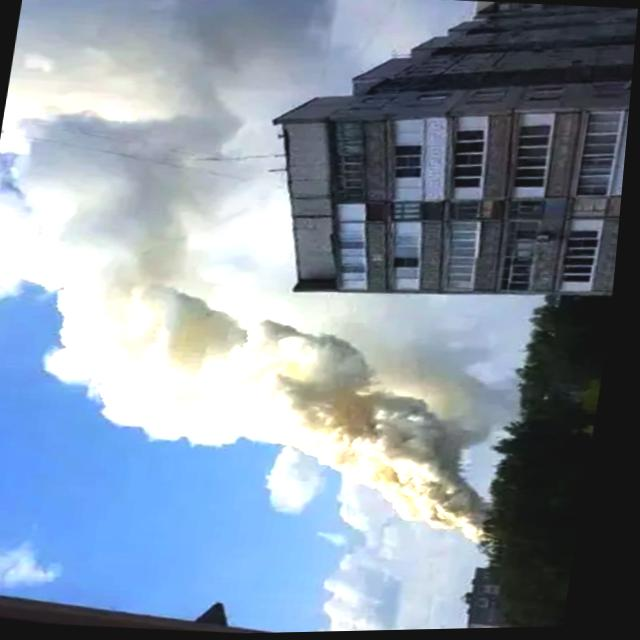no_helmet: (0, 111, 542, 550)
